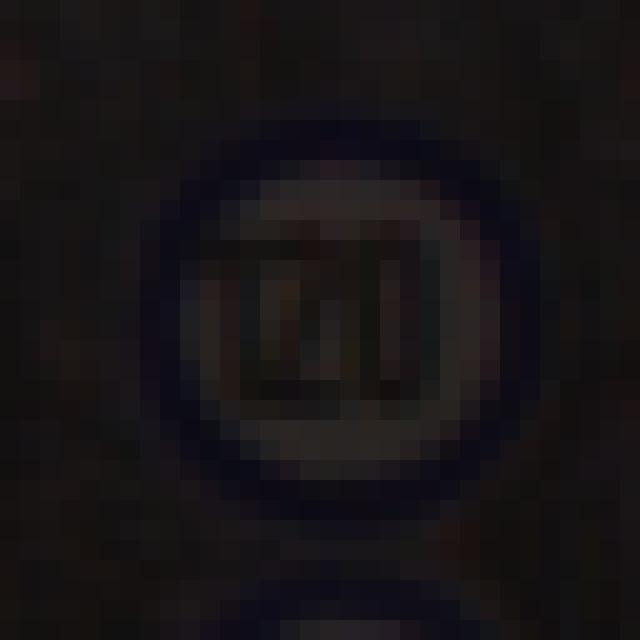SPEED LIMIT 120: (142, 143, 510, 483)
